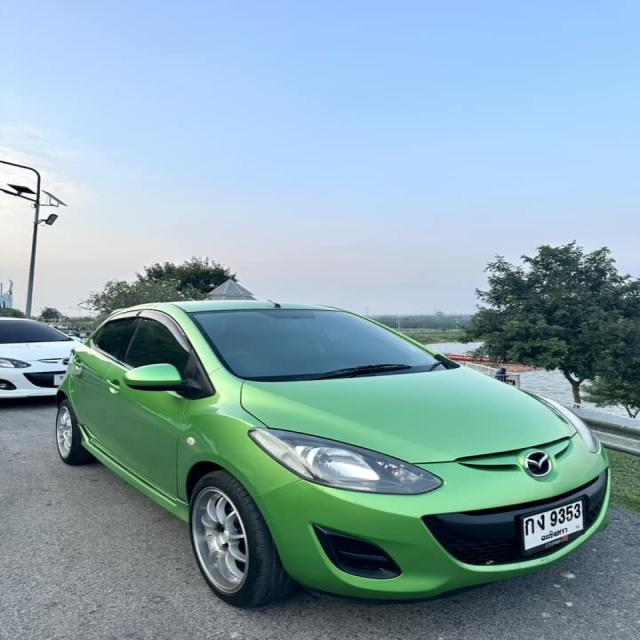license_plate: (520, 494, 587, 550)
